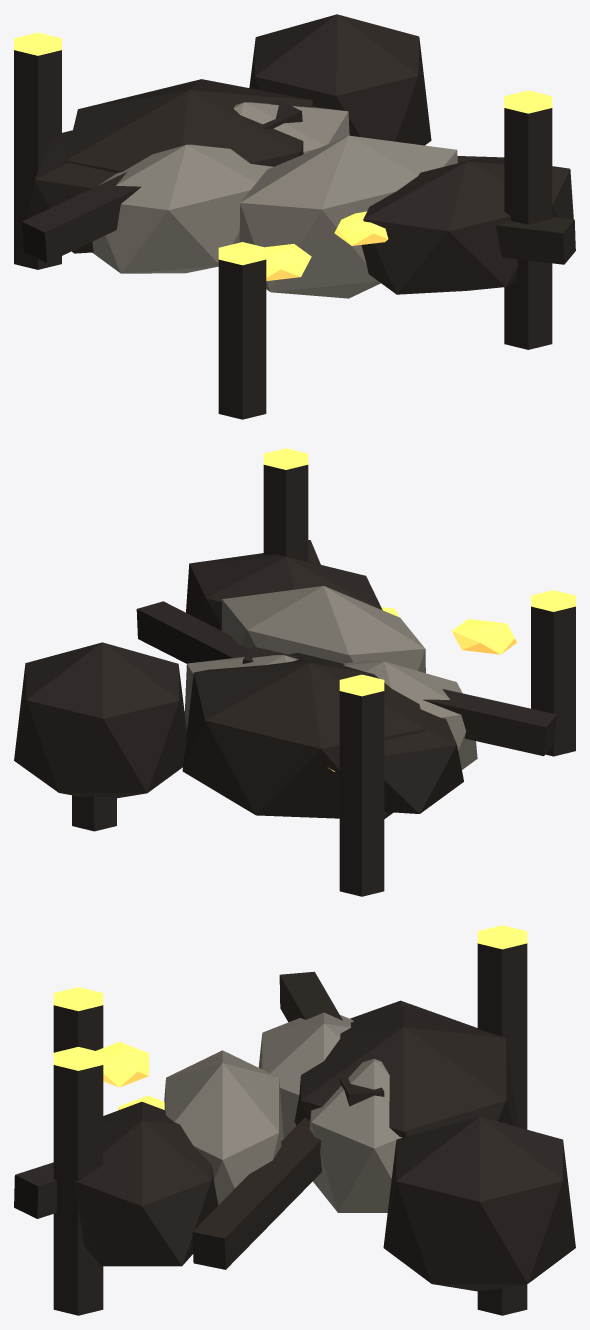
The model's file is Palisade_Wachturm_Ruine.fbx.
The picture shows the model from 3 angles, top to bottom: view 1: azimuth 30°, elevation 25°; view 2: azimuth 150°, elevation 25°; view 3: azimuth 270°, elevation 25°; orthographic projection. The views are drawn at different scales.
Visible parts, largest first — view 1: Palisade_Wachturm_Ruine; view 2: Palisade_Wachturm_Ruine; view 3: Palisade_Wachturm_Ruine.
Part boxes in pixels (x1,y1,x2,y2): Palisade_Wachturm_Ruine: [14, 14, 575, 419]; Palisade_Wachturm_Ruine: [14, 448, 575, 896]; Palisade_Wachturm_Ruine: [14, 925, 575, 1315].
Size of the model in its own units: 3.21 by 1.51 by 3.14.
